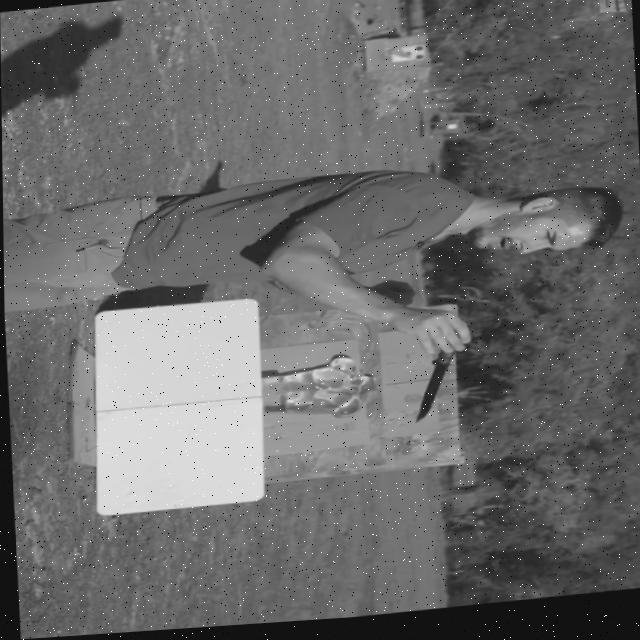knife: (408, 356, 457, 427)
